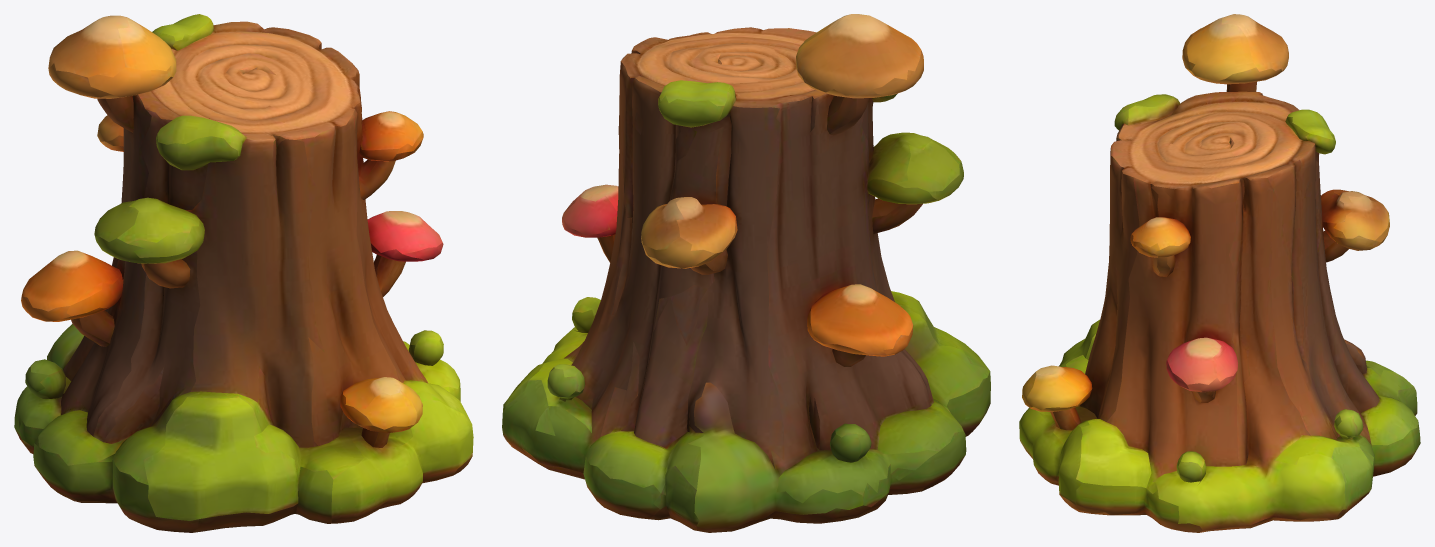
The model's file is a-rotten-hollow-tree-stump-cover-4d6788.glb.
3 renders of one model, left to right at view 1: azimuth 30°, elevation 25°; view 2: azimuth 150°, elevation 25°; view 3: azimuth 270°, elevation 25°, orthographic. The views are drawn at different scales.
Parts seen in each view (by area): view 1: geometry_0; view 2: geometry_0; view 3: geometry_0.
Part boxes in pixels (x1,y1,x2,y2): geometry_0: (14, 14, 473, 532); geometry_0: (502, 14, 990, 532); geometry_0: (1019, 14, 1420, 532).
Size of the model in its own units: 0.9365 by 1 by 0.9453.
Materials: 1 (1 with a texture image).
